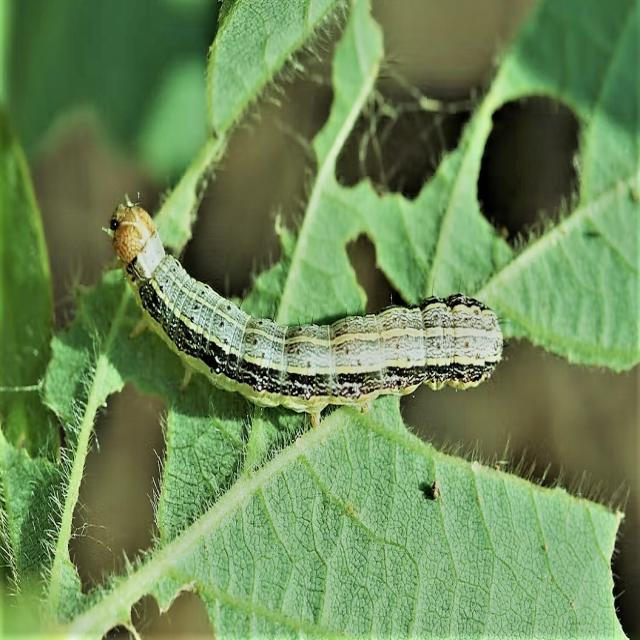Army worm: (103, 193, 507, 416), (473, 90, 586, 253)
